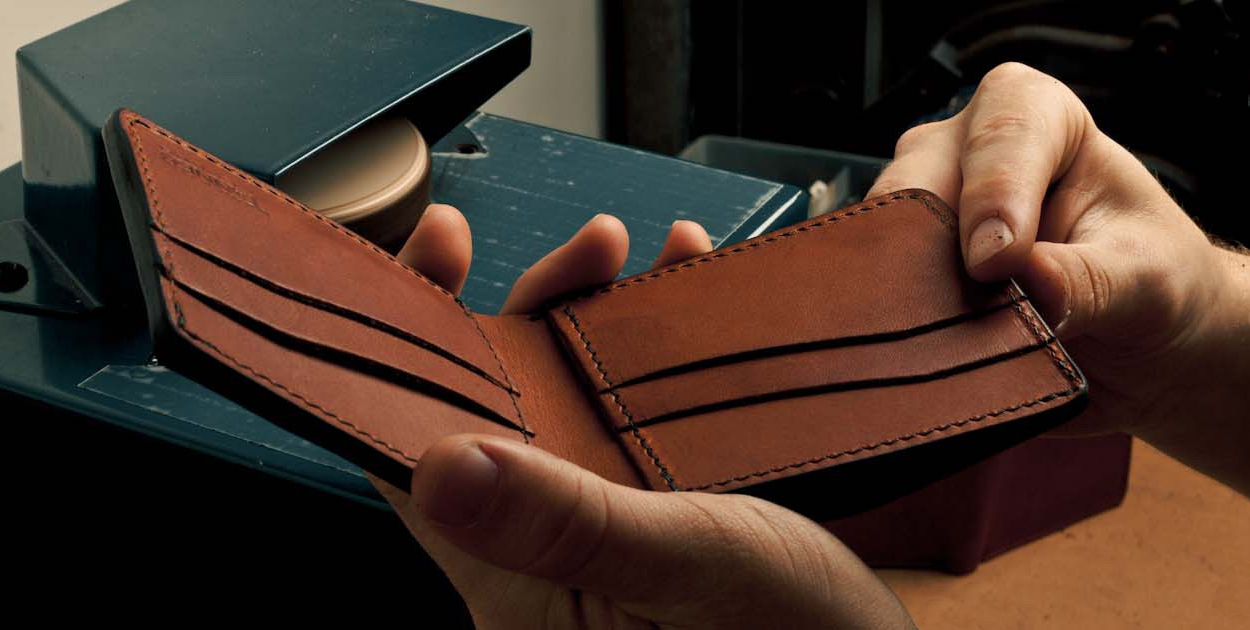monedero: (94, 100, 1097, 533)
